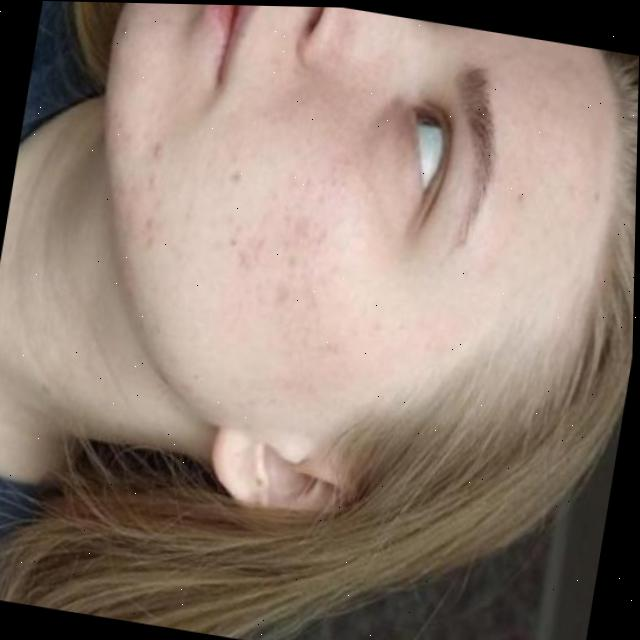Acne: (153, 111, 385, 354)
